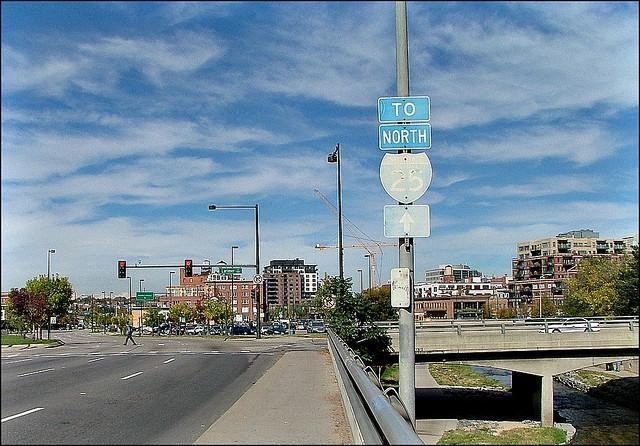car: (541, 317, 600, 333), (234, 321, 256, 336), (306, 321, 324, 334), (267, 324, 285, 335), (210, 326, 223, 335), (185, 327, 199, 335), (261, 326, 269, 334)
